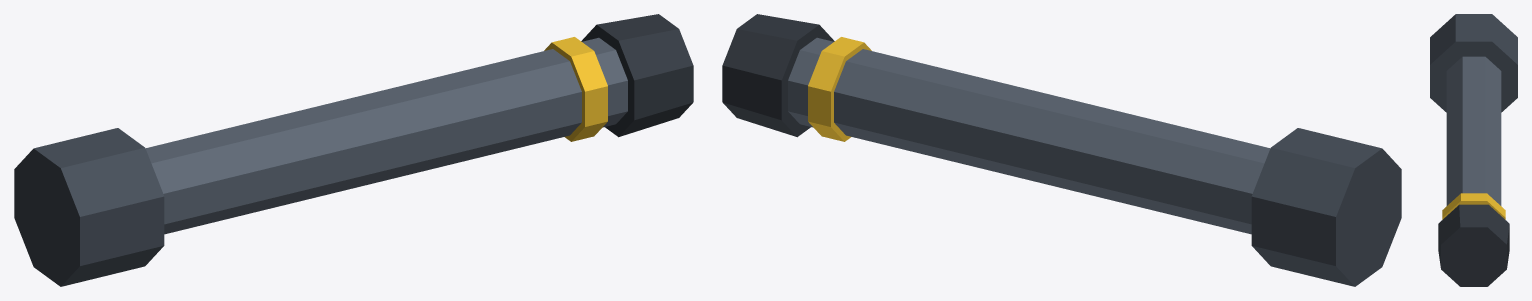
The model's file is barrel_stub.glb.
3 renders of one model, left to right at view 1: azimuth 30°, elevation 25°; view 2: azimuth 150°, elevation 25°; view 3: azimuth 270°, elevation 25°, orthographic. The views are drawn at different scales.
Parts seen in each view (by area): view 1: barrel_stub; view 2: barrel_stub; view 3: barrel_stub.
Part boxes in pixels (box(x1,y1,x2,y2)): barrel_stub: box(14, 14, 693, 286); barrel_stub: box(722, 14, 1401, 286); barrel_stub: box(1430, 14, 1517, 286).
Bounding box in the file's own units: 0.162 × 0.0296 × 0.0296.
